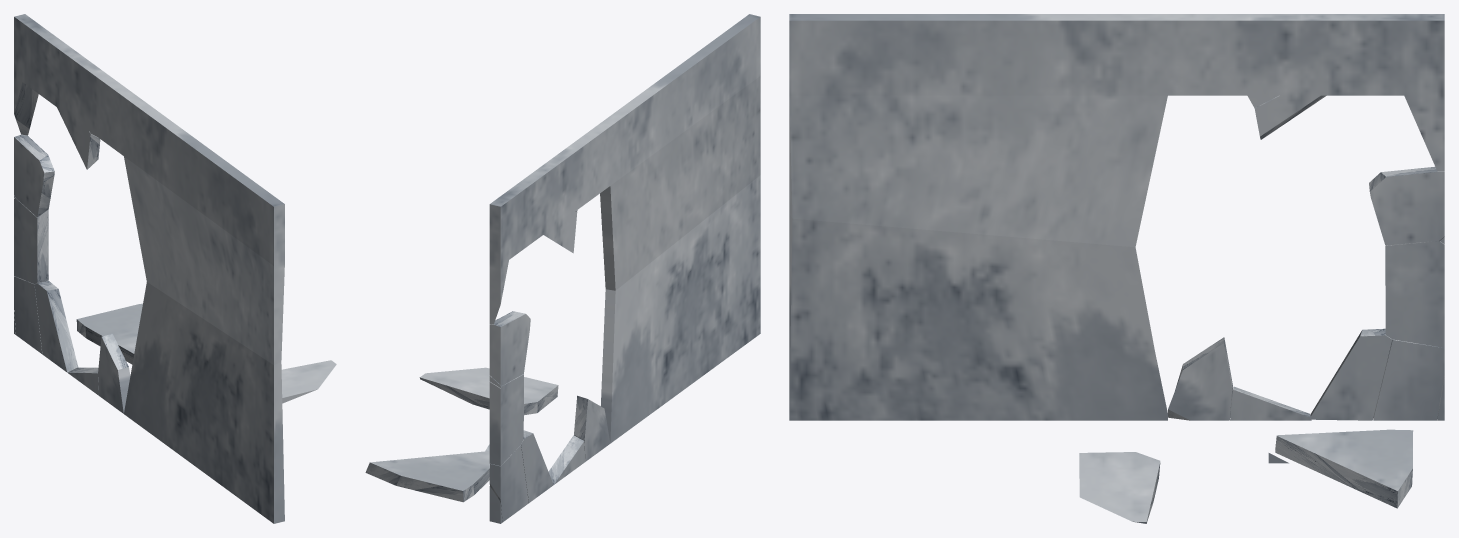
The model's file is Destroyed bathroom .fbx.
The picture shows the model from 3 angles, left to right: view 1: azimuth 30°, elevation 25°; view 2: azimuth 150°, elevation 25°; view 3: azimuth 270°, elevation 25°; orthographic projection. The views are drawn at different scales.
Visible parts, largest first — view 1: Cube.021, Cube.022_cell.010, Cube.022_cell.008, Cube.022_cell.012, Cube.022_cell.024, Cube.022_cell.003, Cube.022_cell.009, Cube.022_cell.014, Cube.022_cell.021, Cube.022_cell.017, Cube.022_cell.025; view 2: Cube.021, Cube.022_cell.024, Cube.022_cell.014, Cube.022_cell.008, Cube.022_cell.010, Cube.022_cell.009, Cube.022_cell.003, Cube.022_cell.012, Cube.022_cell.025, Cube.022_cell.017, Cube.022_cell.021; view 3: Cube.021, Cube.022_cell.024, Cube.022_cell.008, Cube.022_cell.010, Cube.022_cell.009, Cube.022_cell.014, Cube.022_cell.012, Cube.022_cell.003, Cube.022_cell.017, Cube.022_cell.025, Cube.022_cell.021.
Part boxes in pixels (x1,y1,x2,y2): Cube.021: [14, 14, 284, 523]; Cube.022_cell.010: [14, 134, 54, 217]; Cube.022_cell.008: [14, 198, 48, 284]; Cube.022_cell.012: [34, 280, 78, 372]; Cube.022_cell.024: [76, 303, 142, 364]; Cube.022_cell.003: [98, 333, 130, 413]; Cube.022_cell.009: [14, 276, 42, 353]; Cube.022_cell.014: [281, 360, 336, 403]; Cube.022_cell.021: [57, 107, 100, 169]; Cube.022_cell.017: [14, 76, 38, 135]; Cube.022_cell.025: [67, 367, 98, 395]; Cube.021: [489, 14, 760, 443]; Cube.022_cell.024: [365, 451, 489, 502]; Cube.022_cell.014: [419, 367, 558, 415]; Cube.022_cell.008: [489, 374, 523, 465]; Cube.022_cell.010: [489, 311, 530, 385]; Cube.022_cell.009: [489, 445, 528, 522]; Cube.022_cell.003: [574, 395, 610, 461]; Cube.022_cell.012: [521, 430, 553, 502]; Cube.022_cell.025: [548, 435, 585, 484]; Cube.022_cell.017: [489, 260, 508, 324]; Cube.022_cell.021: [543, 211, 577, 253]; Cube.021: [789, 14, 1444, 420]; Cube.022_cell.024: [1275, 429, 1413, 508]; Cube.022_cell.008: [1385, 241, 1444, 347]; Cube.022_cell.010: [1369, 166, 1444, 245]; Cube.022_cell.009: [1373, 339, 1444, 420]; Cube.022_cell.014: [1079, 452, 1160, 523]; Cube.022_cell.012: [1310, 328, 1392, 420]; Cube.022_cell.003: [1168, 337, 1232, 420]; Cube.022_cell.017: [1404, 95, 1444, 171]; Cube.022_cell.025: [1230, 386, 1311, 420]; Cube.022_cell.021: [1254, 95, 1326, 139].
Size of the model in its own units: 120 by 183 by 272.
1 material, 1 textured.
